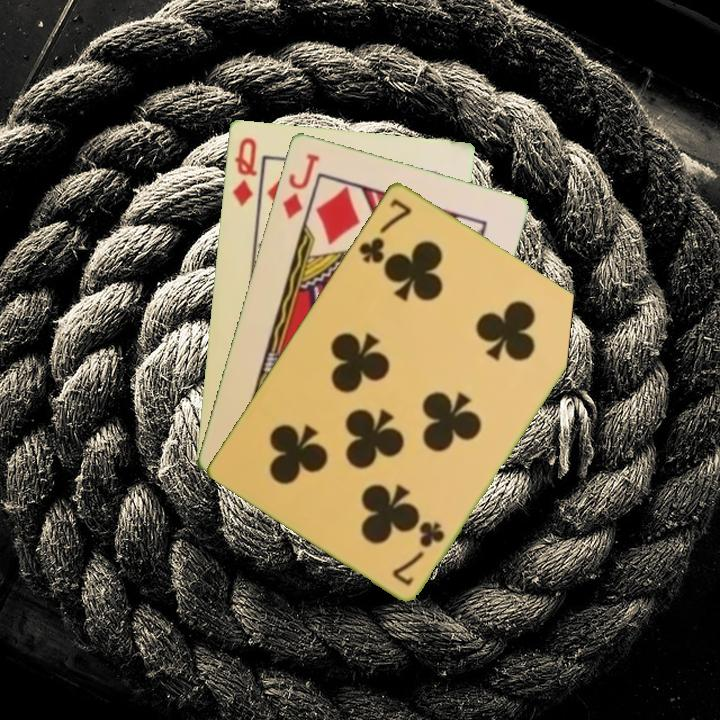7c: (355, 194, 415, 266), (388, 516, 448, 588)
Jd: (278, 149, 322, 222)
Qd: (229, 133, 260, 209)
